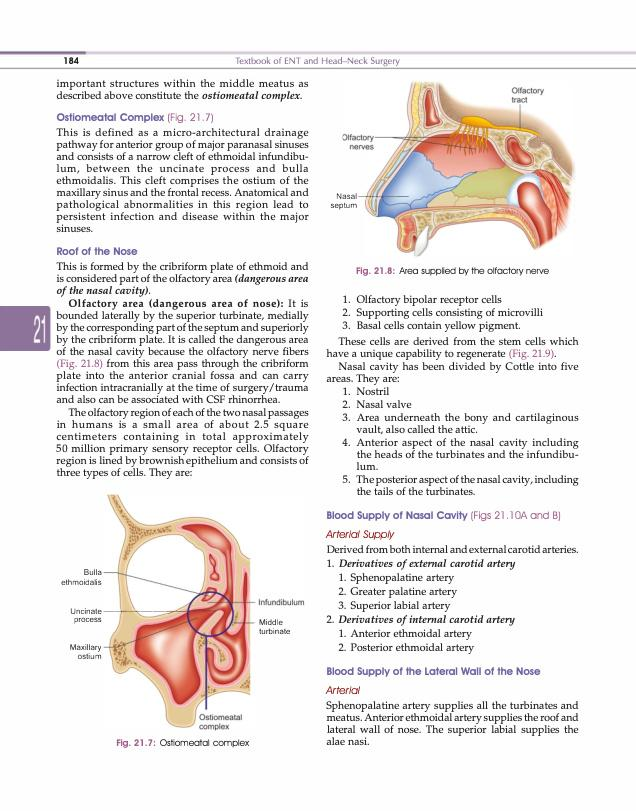caption: (355, 266, 550, 277), (115, 737, 251, 749)
header: (234, 56, 401, 67)
image: (54, 488, 313, 734), (325, 75, 585, 262)
list: (341, 385, 581, 497), (326, 558, 517, 656), (340, 293, 543, 333)
sub-section-heading: (326, 665, 541, 678), (325, 509, 469, 523), (55, 112, 166, 124), (56, 245, 139, 257), (324, 528, 395, 540), (324, 684, 361, 696)
text: (55, 261, 311, 480), (55, 127, 310, 233), (325, 335, 580, 385), (324, 699, 580, 747), (55, 77, 309, 103), (326, 543, 580, 555)
